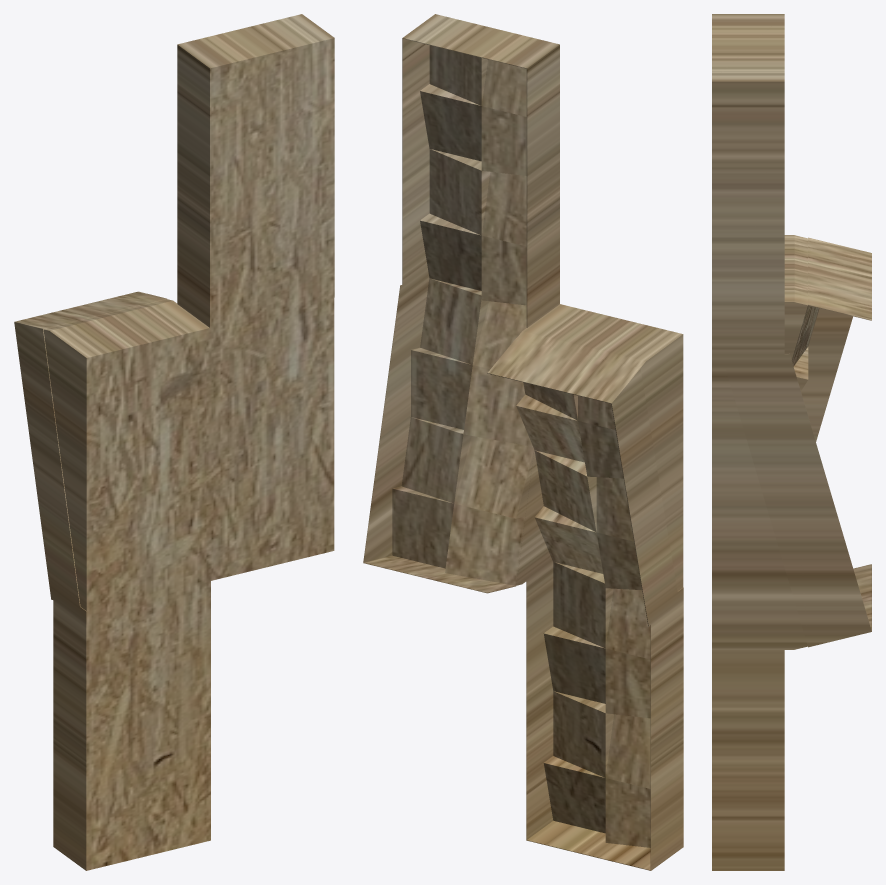
The model's file is ramp_slope.dae.
3 renders of one model, left to right at view 1: azimuth 30°, elevation 25°; view 2: azimuth 150°, elevation 25°; view 3: azimuth 270°, elevation 25°, orthographic. The views are drawn at different scales.
Parts seen in each view (by area): view 1: Ramp Slope; view 2: Ramp Slope; view 3: Ramp Slope.
Part boxes in pixels (left/top/right/bottom): Ramp Slope: left=14, top=14, right=334, bottom=870; Ramp Slope: left=363, top=14, right=683, bottom=870; Ramp Slope: left=712, top=14, right=871, bottom=870.
Bounding box in the file's own units: 241 × 121 × 716.
1 material, 1 textured.
